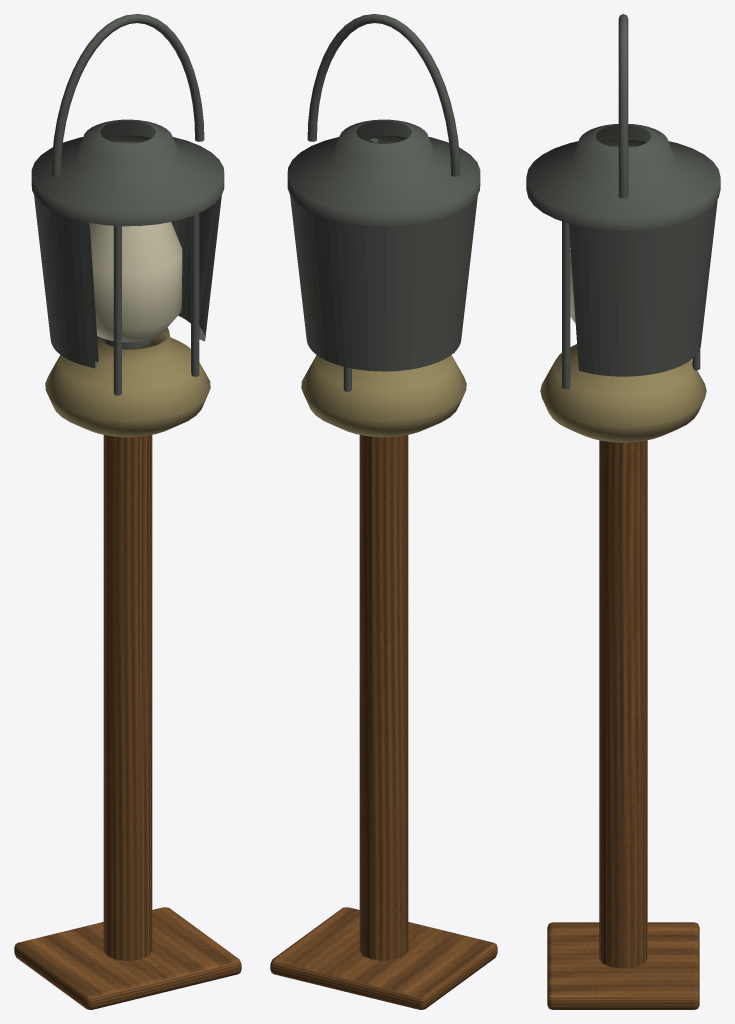
Rendered from ShieldedLamp.fbx.
The picture shows the model from 3 angles, left to right: view 1: azimuth 30°, elevation 25°; view 2: azimuth 150°, elevation 25°; view 3: azimuth 270°, elevation 25°; orthographic projection.
Parts seen in each view (by area): view 1: SupportPost, VentilatedCap, StandFoot, OilReservoir, OpaqueDirectionalShield, GlassChimney, CarryHandle, GlassGuard.001, GlassGuard; view 2: SupportPost, OpaqueDirectionalShield, VentilatedCap, StandFoot, OilReservoir, CarryHandle; view 3: SupportPost, OpaqueDirectionalShield, VentilatedCap, StandFoot, OilReservoir, CarryHandle, GlassGuard.
Part boxes in pixels (x1,y1,x2,y2): SupportPost: (103, 435, 152, 960); VentilatedCap: (31, 119, 224, 226); StandFoot: (14, 907, 241, 1009); OilReservoir: (45, 327, 210, 437); OpaqueDirectionalShield: (34, 142, 221, 368); GlassChimney: (88, 222, 182, 342); CarryHandle: (51, 14, 204, 176); GlassGuard.001: (113, 225, 121, 395); GlassGuard: (191, 213, 199, 376); SupportPost: (359, 435, 408, 960); OpaqueDirectionalShield: (290, 195, 477, 371); VentilatedCap: (287, 119, 480, 226); StandFoot: (270, 907, 497, 1009); OilReservoir: (301, 355, 466, 437); CarryHandle: (307, 14, 460, 176); SupportPost: (599, 440, 647, 968); OpaqueDirectionalShield: (569, 146, 717, 376); VentilatedCap: (526, 124, 720, 230); StandFoot: (547, 922, 699, 1009); OilReservoir: (540, 344, 706, 442); CarryHandle: (618, 14, 628, 198); GlassGuard: (562, 221, 570, 389).
Bounding box in the file's own units: 0.28 × 1.52 × 0.28.
5 materials, 1 textured.
